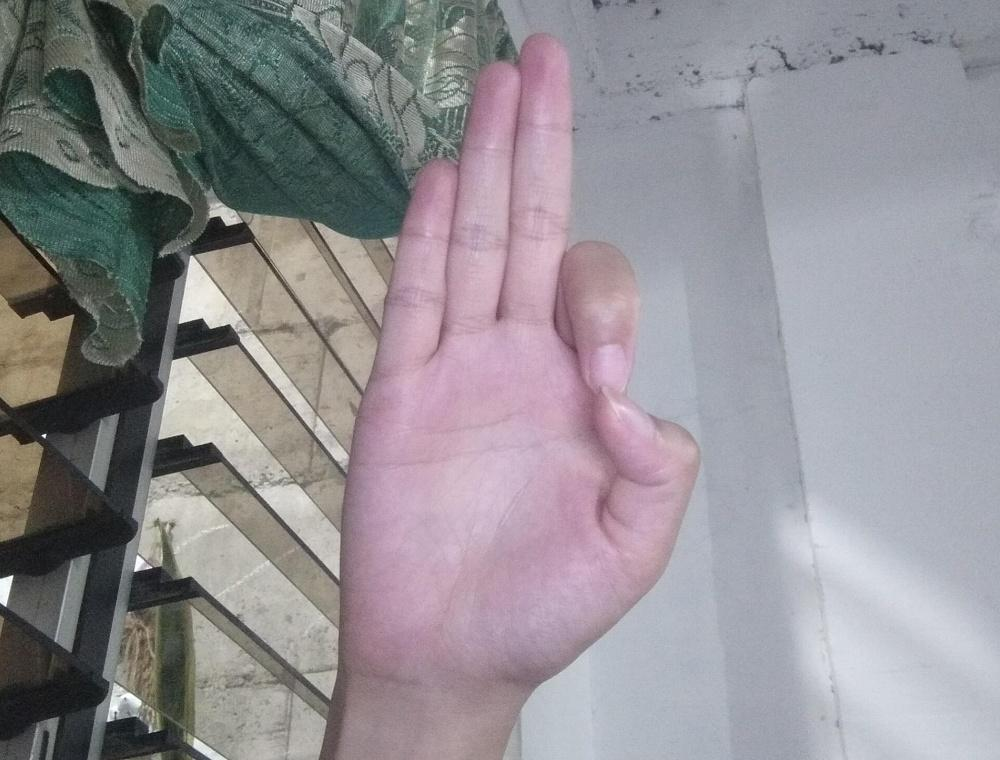f: (337, 29, 702, 698)
